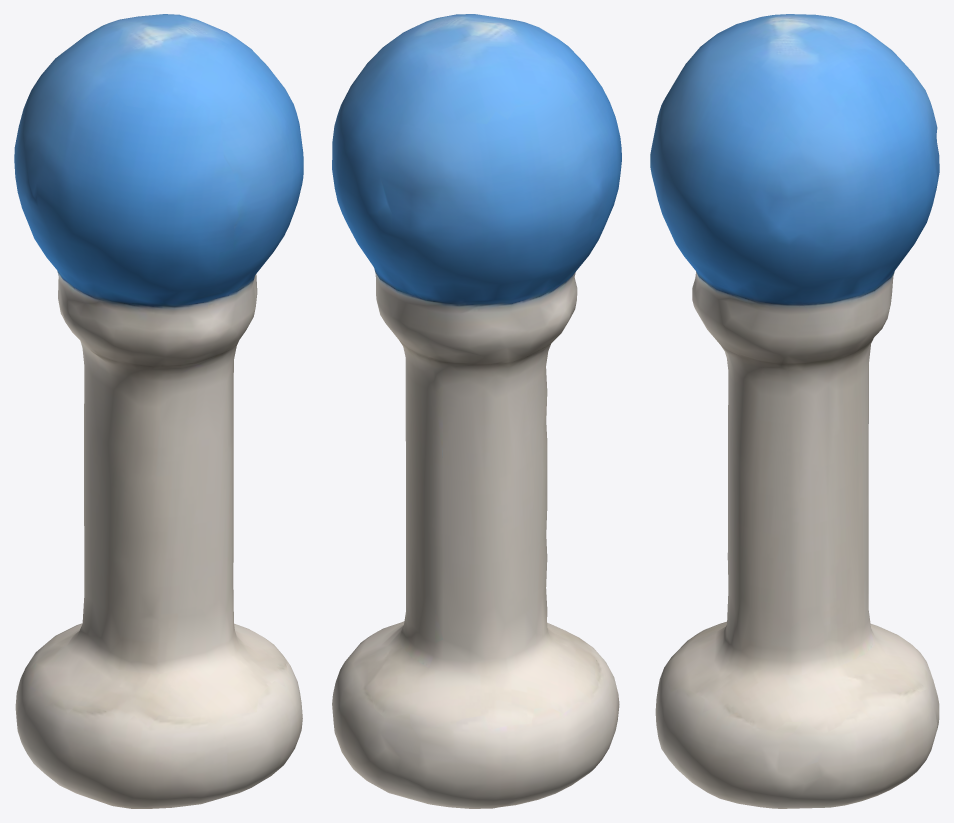
The model's file is checkpoint-post.glb.
3 renders of one model, left to right at view 1: azimuth 30°, elevation 25°; view 2: azimuth 150°, elevation 25°; view 3: azimuth 270°, elevation 25°, orthographic.
Visible parts, largest first — view 1: prop; view 2: prop; view 3: prop.
Part boxes in pixels (box(x1,y1,x2,y2)): prop: box(14, 14, 303, 808); prop: box(332, 14, 621, 808); prop: box(650, 14, 939, 808).
Bounding box in the file's own units: 0.5067 × 1.43 × 0.5051.
Materials: 1 (1 with a texture image).
